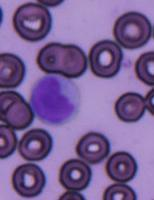M: (29, 73, 81, 125)
